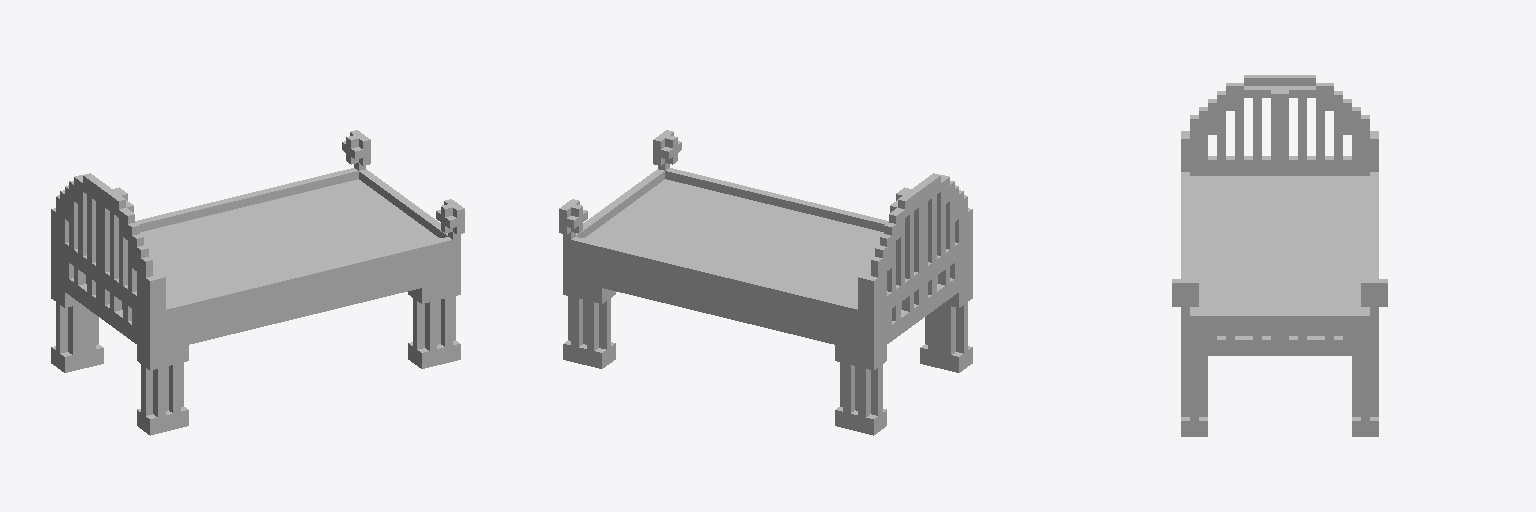
File: bed.obj
3 views of the same model, side by side, from view 1: azimuth 30°, elevation 25°; view 2: azimuth 150°, elevation 25°; view 3: azimuth 270°, elevation 25° (orthographic).
Size of the model in its own units: 40 by 26 by 24.